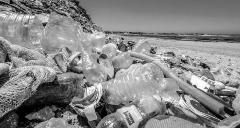plastic: (96, 96, 166, 128), (102, 64, 164, 92)
